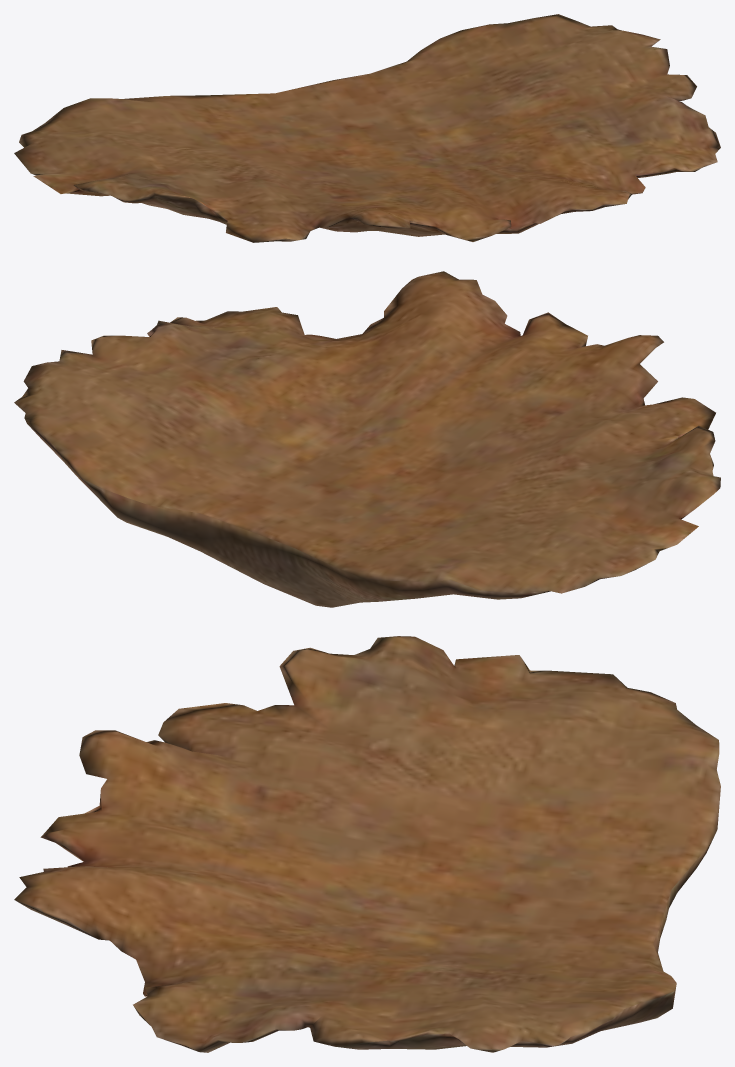
File: Plant - Alien Mushroom Big2-M4p2Bzjg.glb
The picture shows the model from 3 angles, top to bottom: view 1: azimuth 30°, elevation 25°; view 2: azimuth 150°, elevation 25°; view 3: azimuth 270°, elevation 25°; orthographic projection. The views are drawn at different scales.
Visible parts, largest first — view 1: Mushroom_Big2(Clone); view 2: Mushroom_Big2(Clone); view 3: Mushroom_Big2(Clone).
Boxes of the visible parts, x1,y1,x2,y2 form: Mushroom_Big2(Clone): [14, 14, 720, 242]; Mushroom_Big2(Clone): [14, 271, 720, 607]; Mushroom_Big2(Clone): [14, 636, 720, 1052].
Size of the model in its own units: 1.64 by 0.3739 by 1.24.
Materials: 1 (1 with a texture image).
